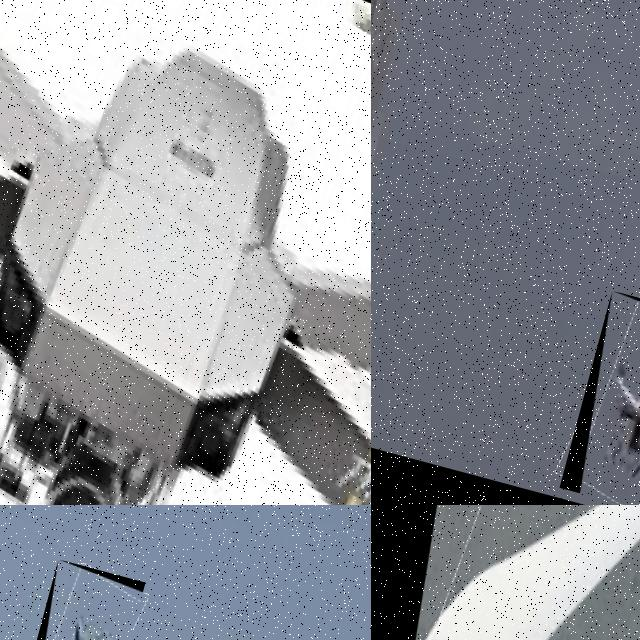0: (559, 290, 640, 505), (13, 559, 144, 640)
drone: (0, 0, 371, 505), (371, 505, 640, 640)
